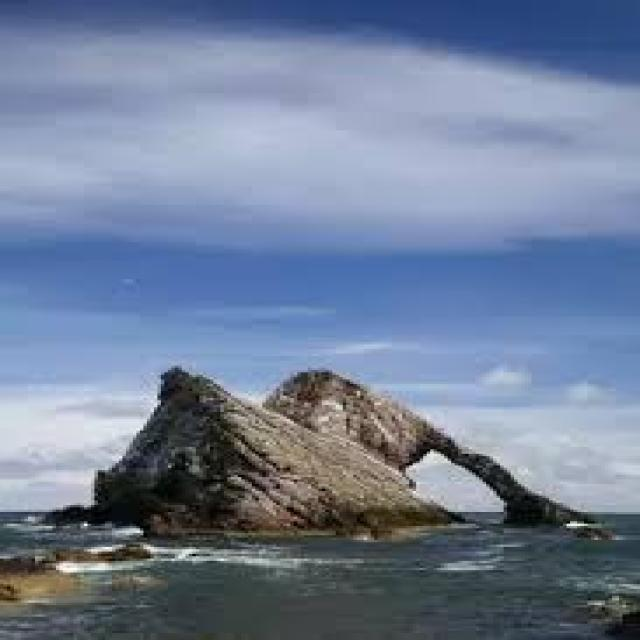Metamorphic: (88, 363, 504, 545)
